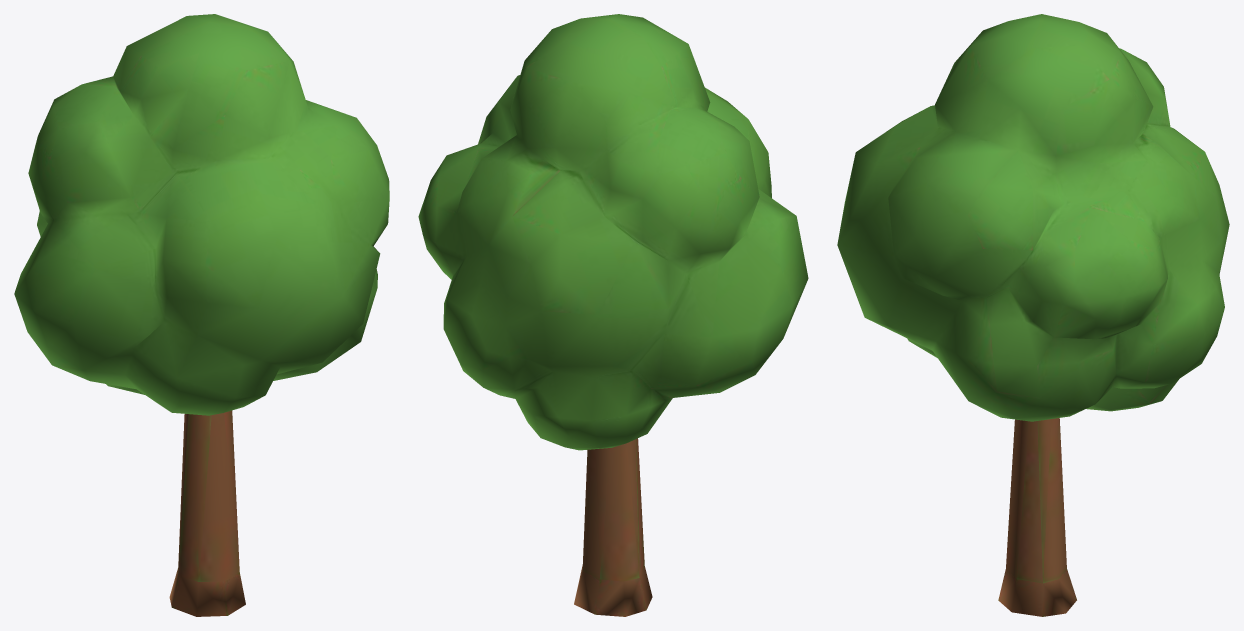
Rendered from tree_a_lod1.glb.
3 renders of one model, left to right at view 1: azimuth 30°, elevation 25°; view 2: azimuth 150°, elevation 25°; view 3: azimuth 270°, elevation 25°, orthographic.
Size of the model in its own units: 0.5859 by 0.9526 by 0.583.
Materials: 1 (1 with a texture image).
